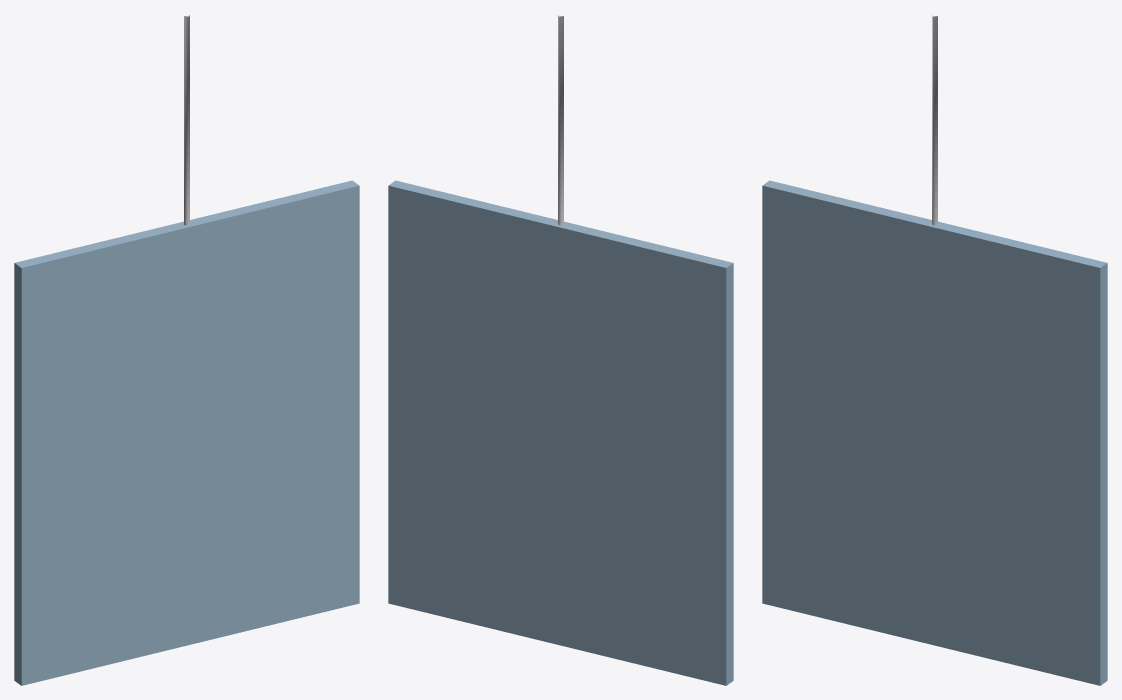
Rendered from curtain.glb.
3 renders of one model, left to right at view 1: azimuth 30°, elevation 25°; view 2: azimuth 150°, elevation 25°; view 3: azimuth 330°, elevation 25°, orthographic.
Parts seen in each view (by area): view 1: fabric, rod; view 2: fabric, rod; view 3: fabric, rod.
Boxes of the visible parts, x1=… form: fabric: x1=14, y1=180, x2=359, y2=685; rod: x1=184, y1=15, x2=189, y2=225; fabric: x1=388, y1=180, x2=733, y2=685; rod: x1=558, y1=15, x2=563, y2=225; fabric: x1=762, y1=180, x2=1107, y2=685; rod: x1=932, y1=15, x2=937, y2=225.
Bounding box in the file's own units: 1.1 × 1.95 × 0.04.
